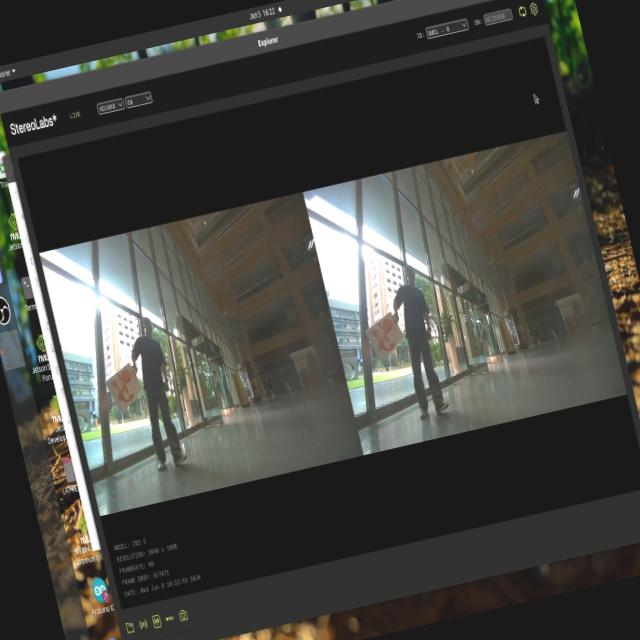red: (95, 366, 148, 412), (363, 311, 404, 367)
